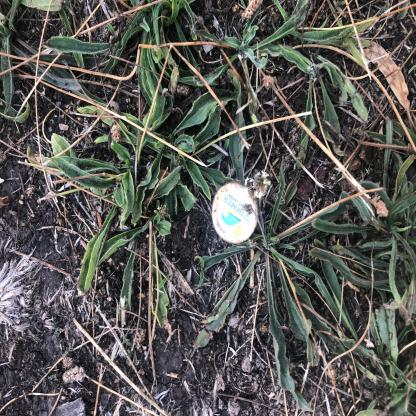trash: (123, 275, 194, 353)
